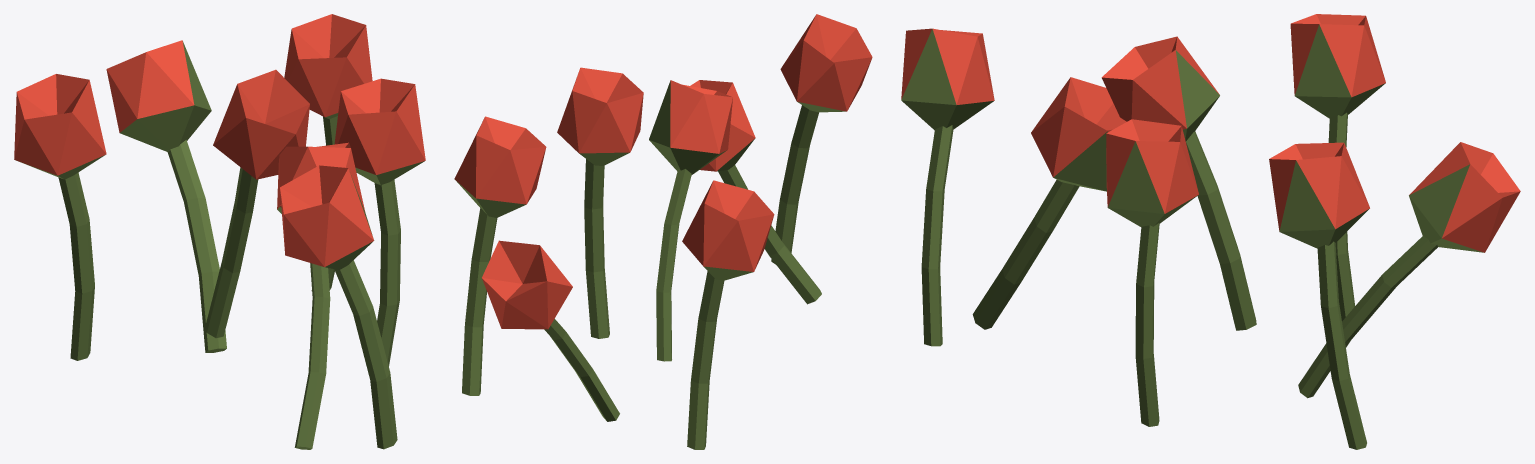
File: flowers_1.glb
3 views of the same model, side by side, from view 1: azimuth 30°, elevation 25°; view 2: azimuth 150°, elevation 25°; view 3: azimuth 270°, elevation 25° (orthographic). The views are drawn at different scales.
Parts seen in each view (by area): view 1: Cylinder.020_Material.042_0; view 2: Cylinder.020_Material.042_0; view 3: Cylinder.020_Material.042_0.
Boxes of the visible parts, <box> form: Cylinder.020_Material.042_0: <box>14,14,425,449</box>; Cylinder.020_Material.042_0: <box>454,14,872,449</box>; Cylinder.020_Material.042_0: <box>901,14,1520,449</box>.
Size of the model in its own units: 0.5415 by 0.4966 by 0.8089.
